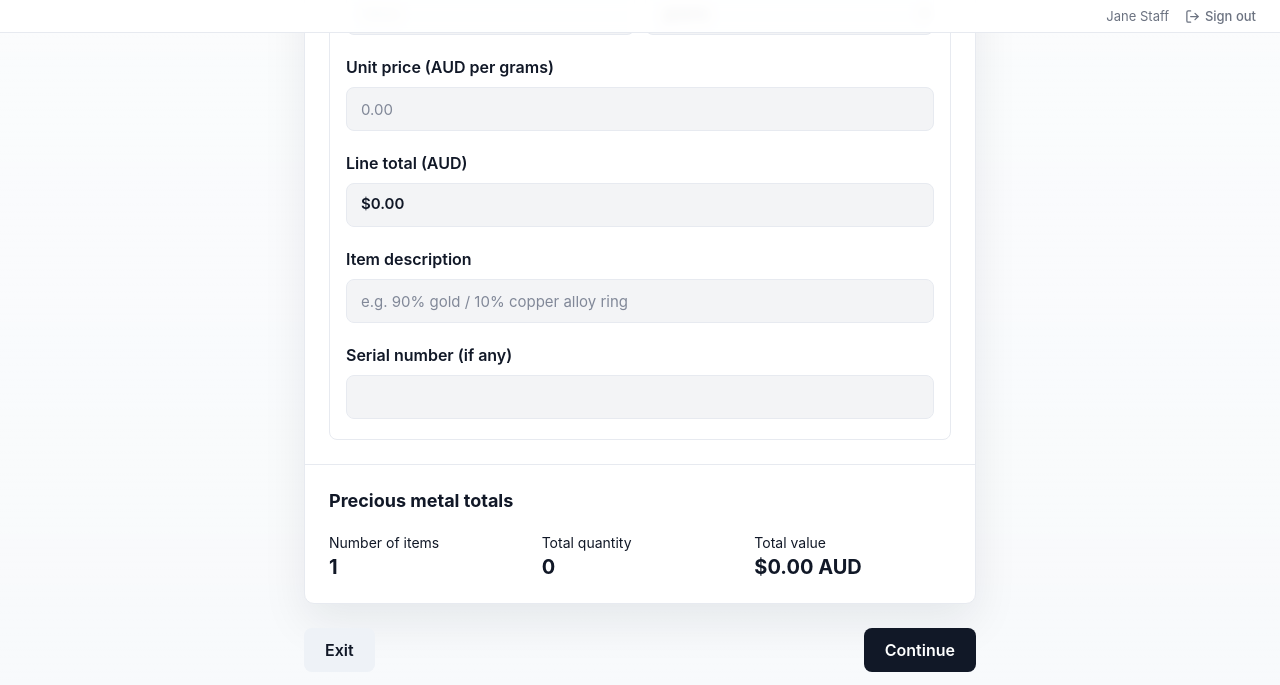
it: PreciousMetalDetailsPage › shows validation errors for metalType, quantity, weight, and unitPrice when empty on continue
(page scrolled)
Click the button "Continue" at x=920, y=650, box [864,628,976,672]
(page scrolled)
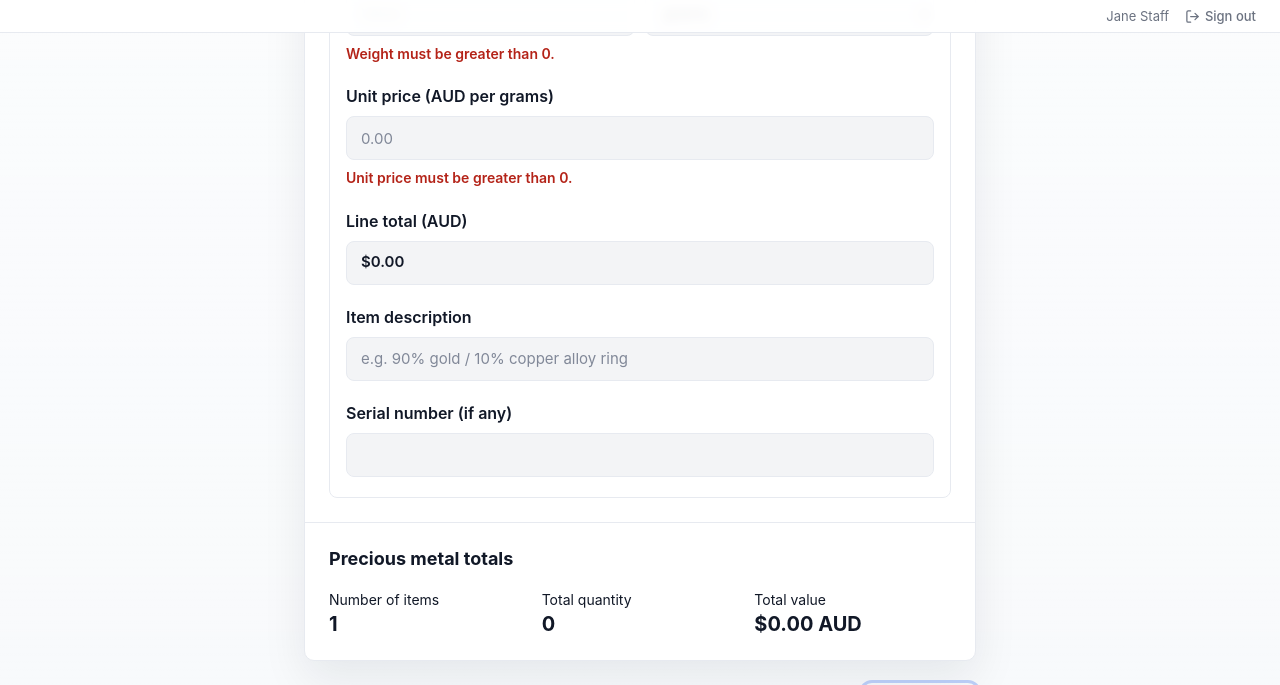
Expected: the text "Weight must be greater than 0." is shown, [346,45,555,62]
Expected: the text "Unit price must be greater than 0." is shown, [346,169,572,186]
